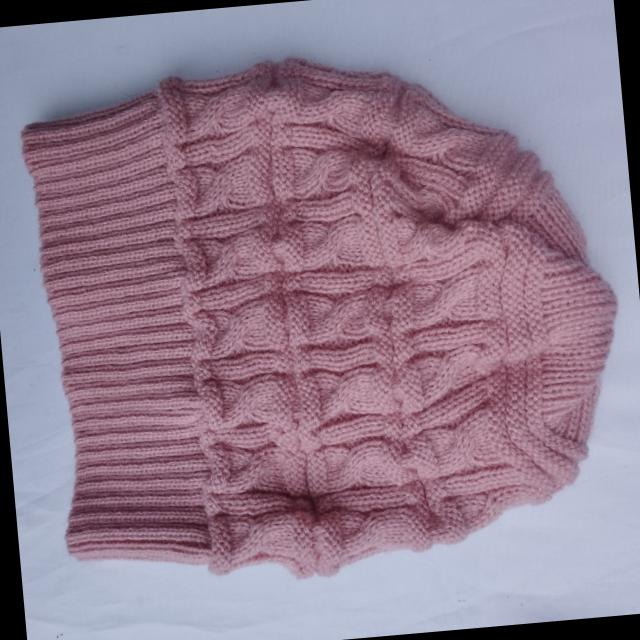Gorro: (14, 31, 638, 602)
